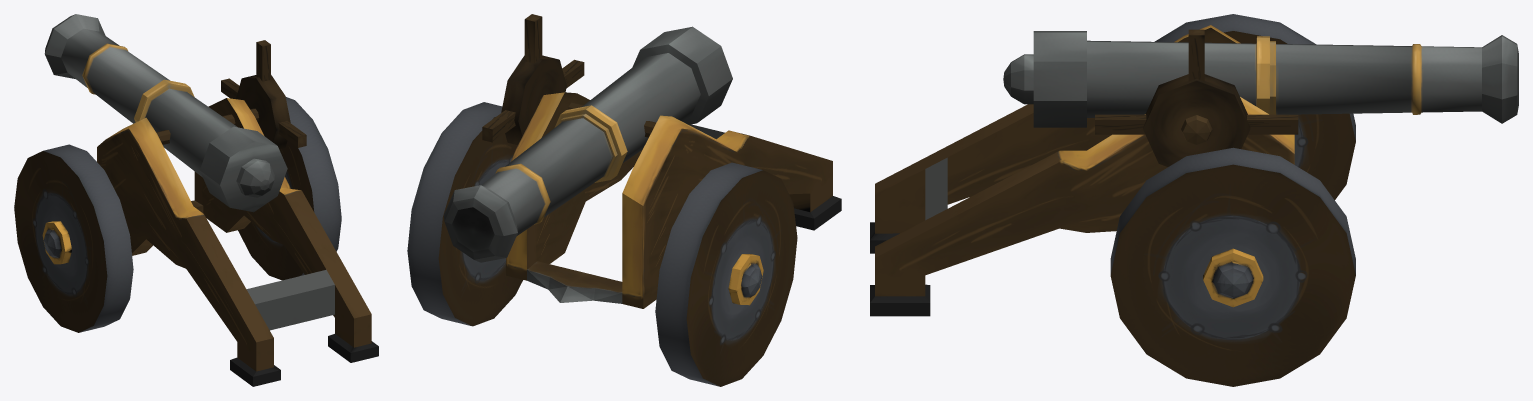
Rendered from canon.FBX.
3 views of the same model, side by side, from view 1: azimuth 30°, elevation 25°; view 2: azimuth 150°, elevation 25°; view 3: azimuth 270°, elevation 25° (orthographic). The views are drawn at different scales.
Parts seen in each view (by area): view 1: Cylinder008; view 2: Cylinder008; view 3: Cylinder008.
Boxes of the visible parts, left/top/right/bottom form: Cylinder008: left=14, top=14, right=378, bottom=386; Cylinder008: left=407, top=14, right=841, bottom=386; Cylinder008: left=870, top=14, right=1518, bottom=386.
Bounding box in the file's own units: 24598 × 22197 × 40136.
2 materials, 2 textured.
